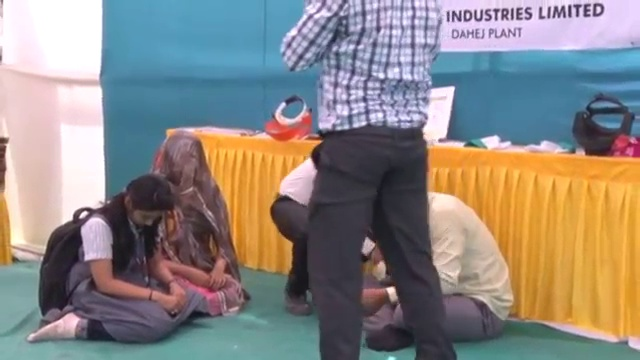helmet_off: (157, 135, 210, 200), (117, 176, 175, 230)
person: (282, 0, 459, 360), (22, 172, 212, 338), (365, 188, 512, 349), (139, 129, 246, 318), (270, 158, 386, 312)
